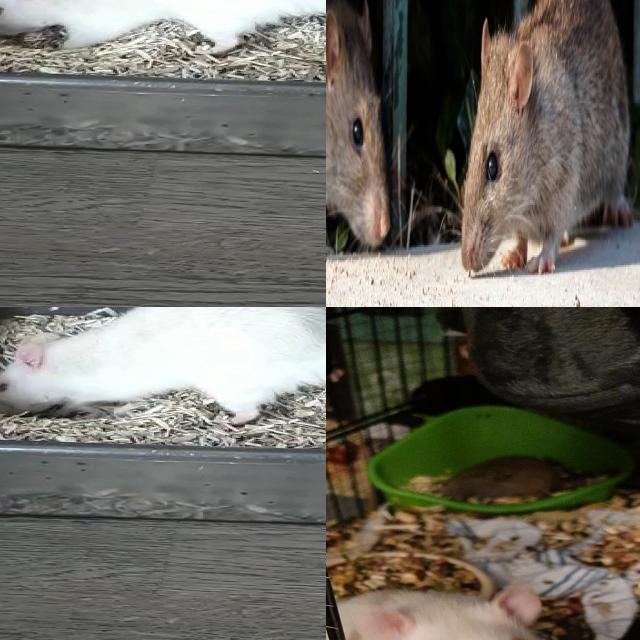rat: (459, 0, 630, 267), (0, 307, 326, 423), (0, 0, 326, 61), (326, 0, 389, 251), (326, 585, 552, 640)
